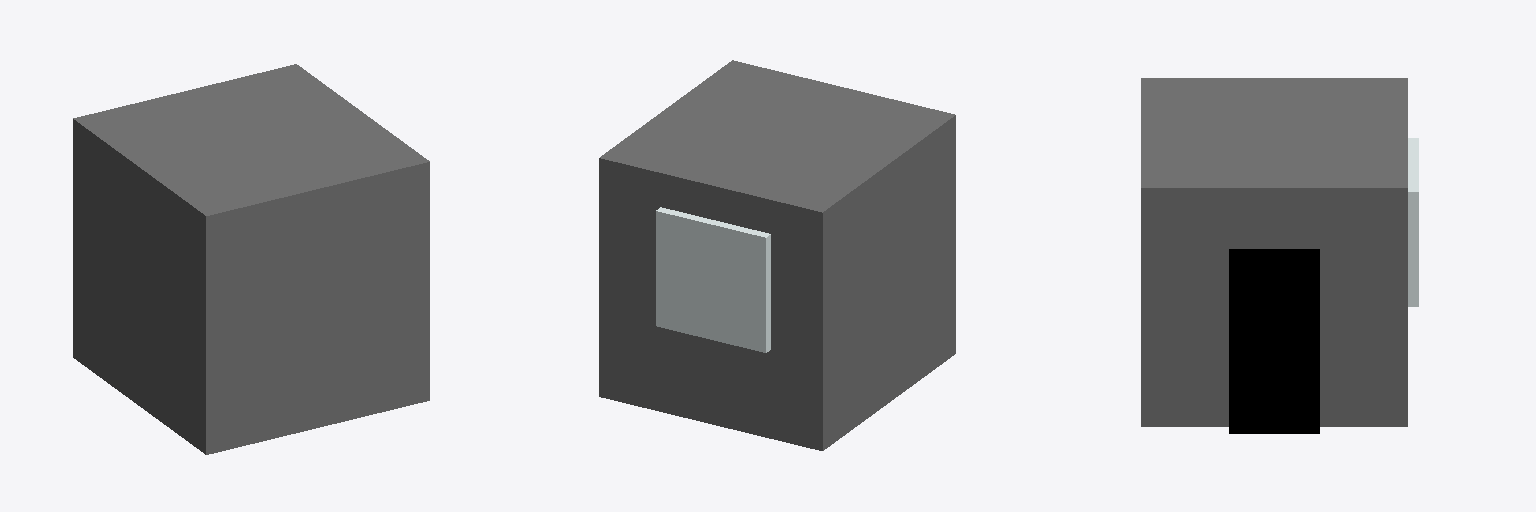
The model's file is RTS-Hutt1.obj.
The picture shows the model from 3 angles: view 1: azimuth 30°, elevation 25°; view 2: azimuth 150°, elevation 25°; view 3: azimuth 270°, elevation 25°; orthographic projection.
Visible parts, largest first — view 1: pCube1; view 2: pCube1, pCube3; view 3: pCube1, pCube2, pCube3.
Part boxes in pixels (x1,y1,x2,y2): pCube1: (73, 64, 429, 454); pCube1: (599, 60, 955, 450); pCube3: (656, 207, 770, 352); pCube1: (1141, 78, 1407, 426); pCube2: (1229, 249, 1319, 433); pCube3: (1408, 138, 1418, 306).
Size of the model in its own units: 6.22 by 5.97 by 6.29.